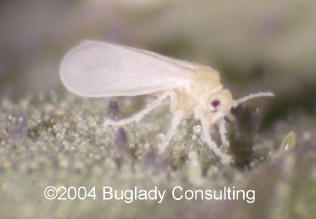whitefly: (57, 37, 274, 162)
